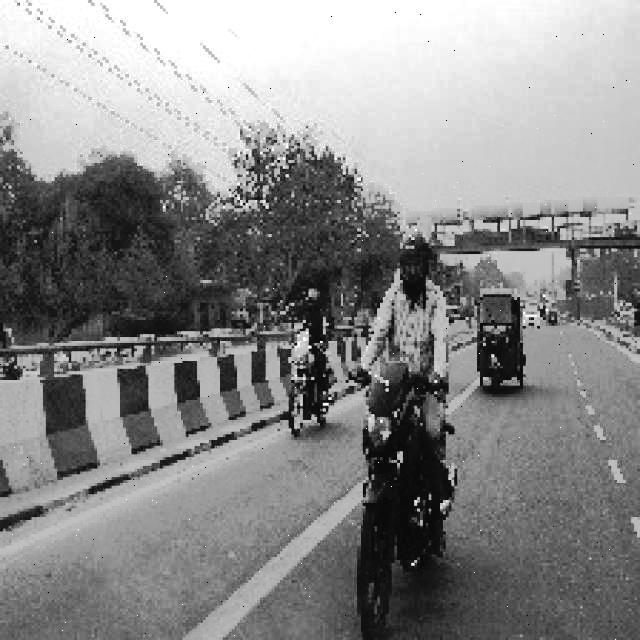Bike: (358, 366, 449, 614), (282, 318, 331, 436)
